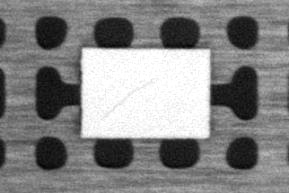DIE_CRACK: (100, 77, 159, 118)
